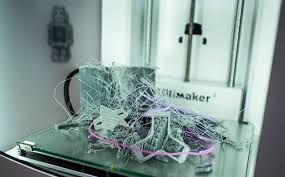Fail: (43, 50, 245, 174)
